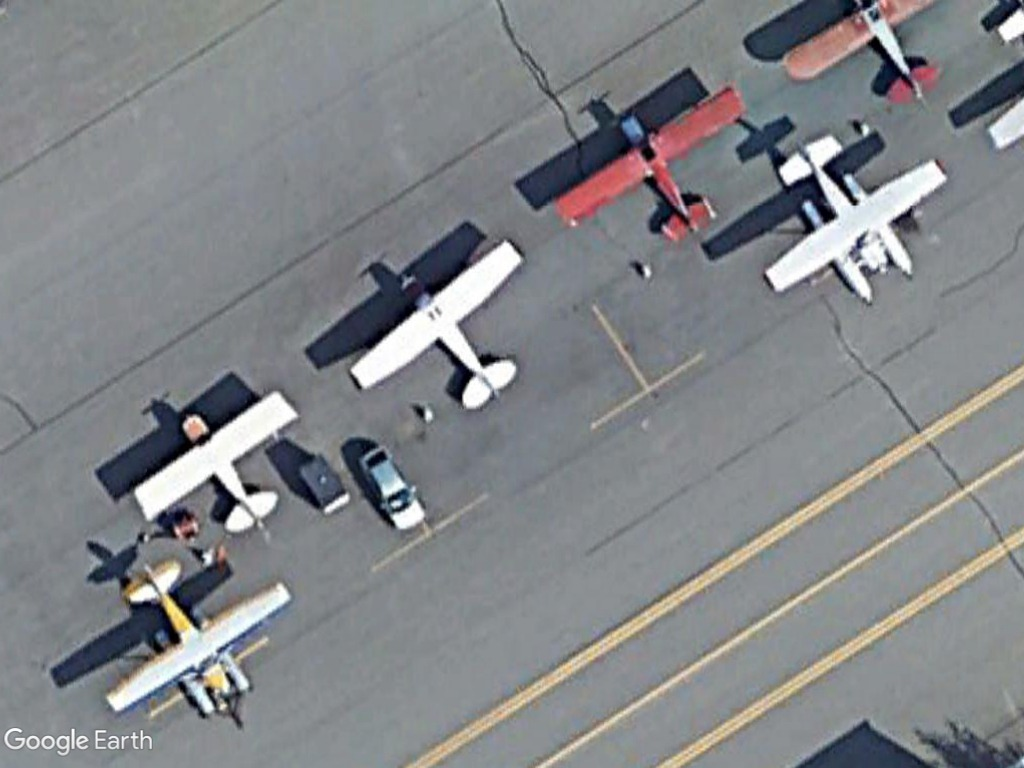car: (356, 444, 429, 536)
trainer: (84, 556, 298, 729), (551, 77, 750, 259), (344, 235, 533, 413), (134, 384, 306, 544)
